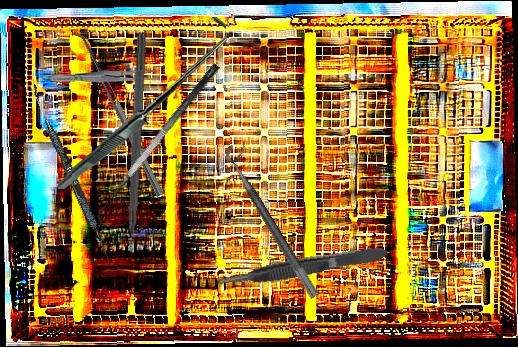Dressing Forceps: (48, 67, 160, 86)
Fixation Ring: (220, 138, 333, 300)
Hook Surgical: (52, 17, 232, 189), (122, 31, 148, 266)
Spatula Surgical: (86, 61, 234, 230), (24, 83, 119, 268), (70, 28, 164, 200)
Tissue Forceps: (213, 243, 390, 292)
